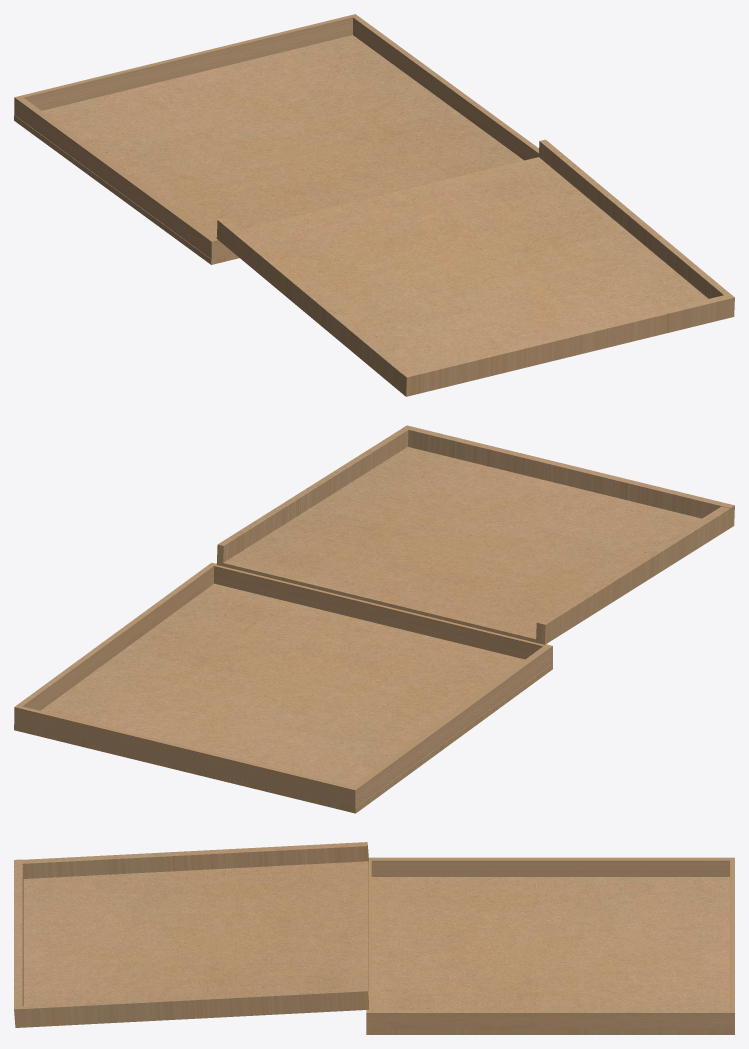
The model's file is pizzaOpen.glb.
3 renders of one model, top to bottom at view 1: azimuth 30°, elevation 25°; view 2: azimuth 150°, elevation 25°; view 3: azimuth 270°, elevation 25°, orthographic. The views are drawn at different scales.
Parts seen in each view (by area): view 1: Plane.002, Plane, Plane.001; view 2: Plane.002, Plane, Plane.001; view 3: Plane.002, Plane, Plane.001.
Part boxes in pixels (x1,y1,x2,y2): Plane.002: (216,139,734,396); Plane: (14,35,523,264); Plane.001: (14,14,538,259); Plane.002: (216,425,734,644); Plane: (14,583,552,813); Plane.001: (14,562,552,807); Plane.002: (14,842,368,1027); Plane: (366,877,734,1034); Plane.001: (366,857,734,1029).
Size of the model in its own units: 2 by 0.2427 by 3.91.
Materials: 3 (3 with a texture image).
